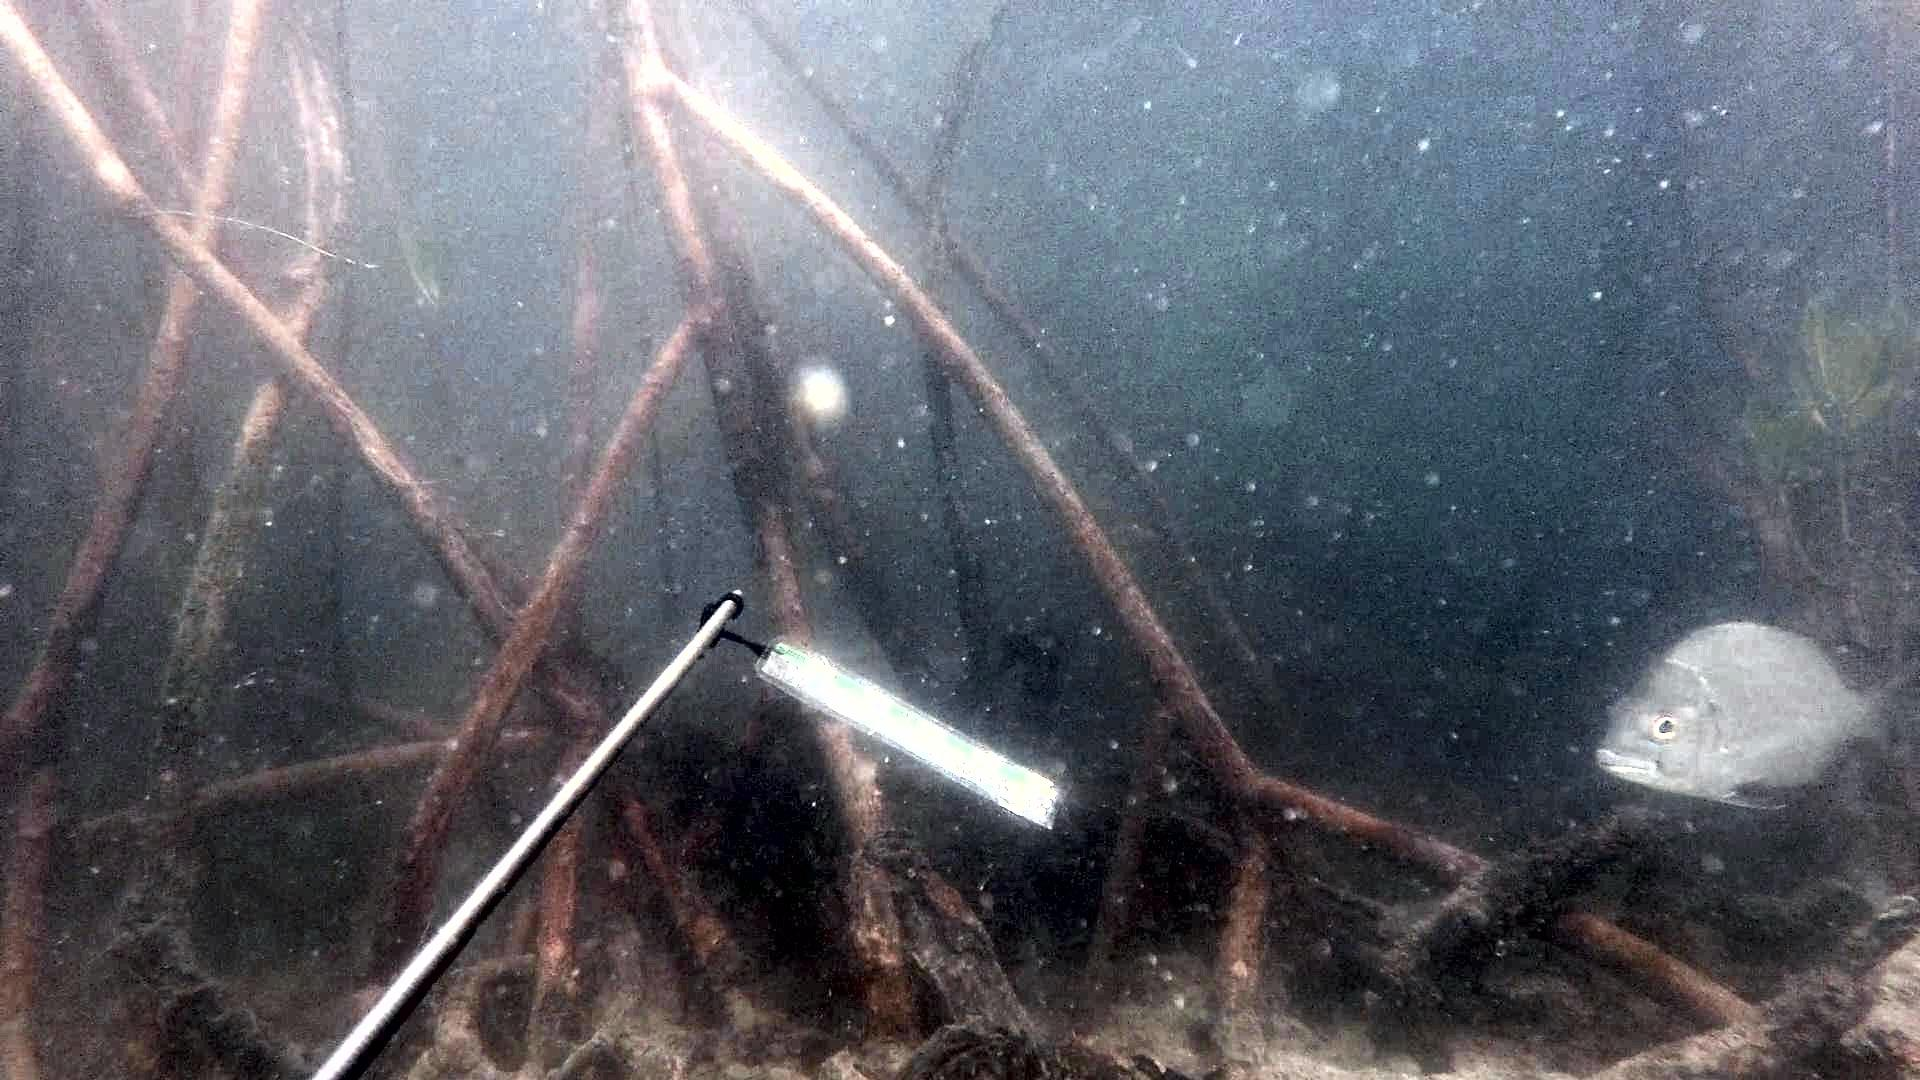acanthopagrus palmaris: (1585, 605, 1920, 825)
